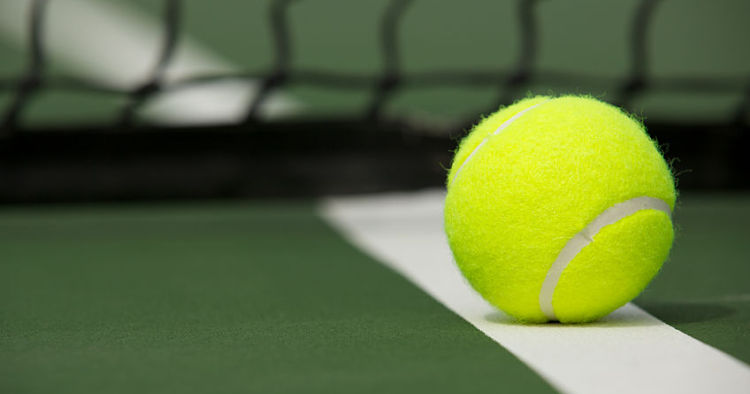aim: (443, 97, 672, 321)
